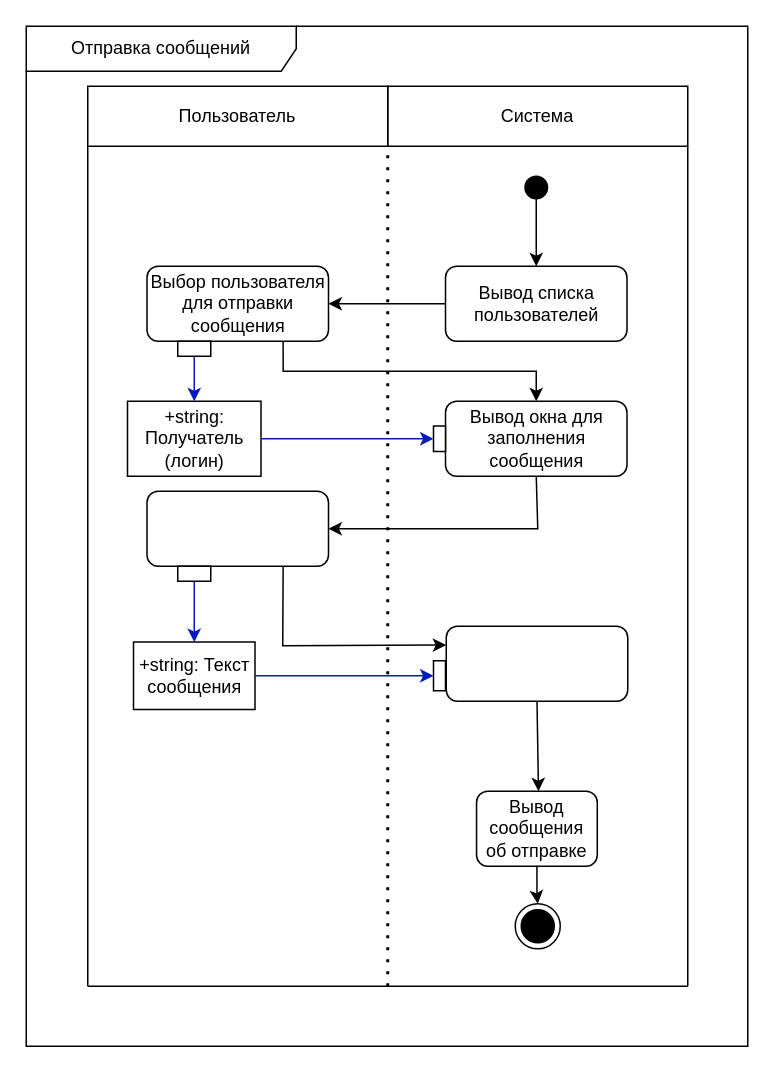
This 774x1073 diagram has some shape labels left out. The box of each missing label's shape, as (x1, y1, x2, y2) in pixels:
Ввод сообщение и отправка: (146, 490, 328, 566)
Отправка сообщения: (445, 625, 628, 701)
